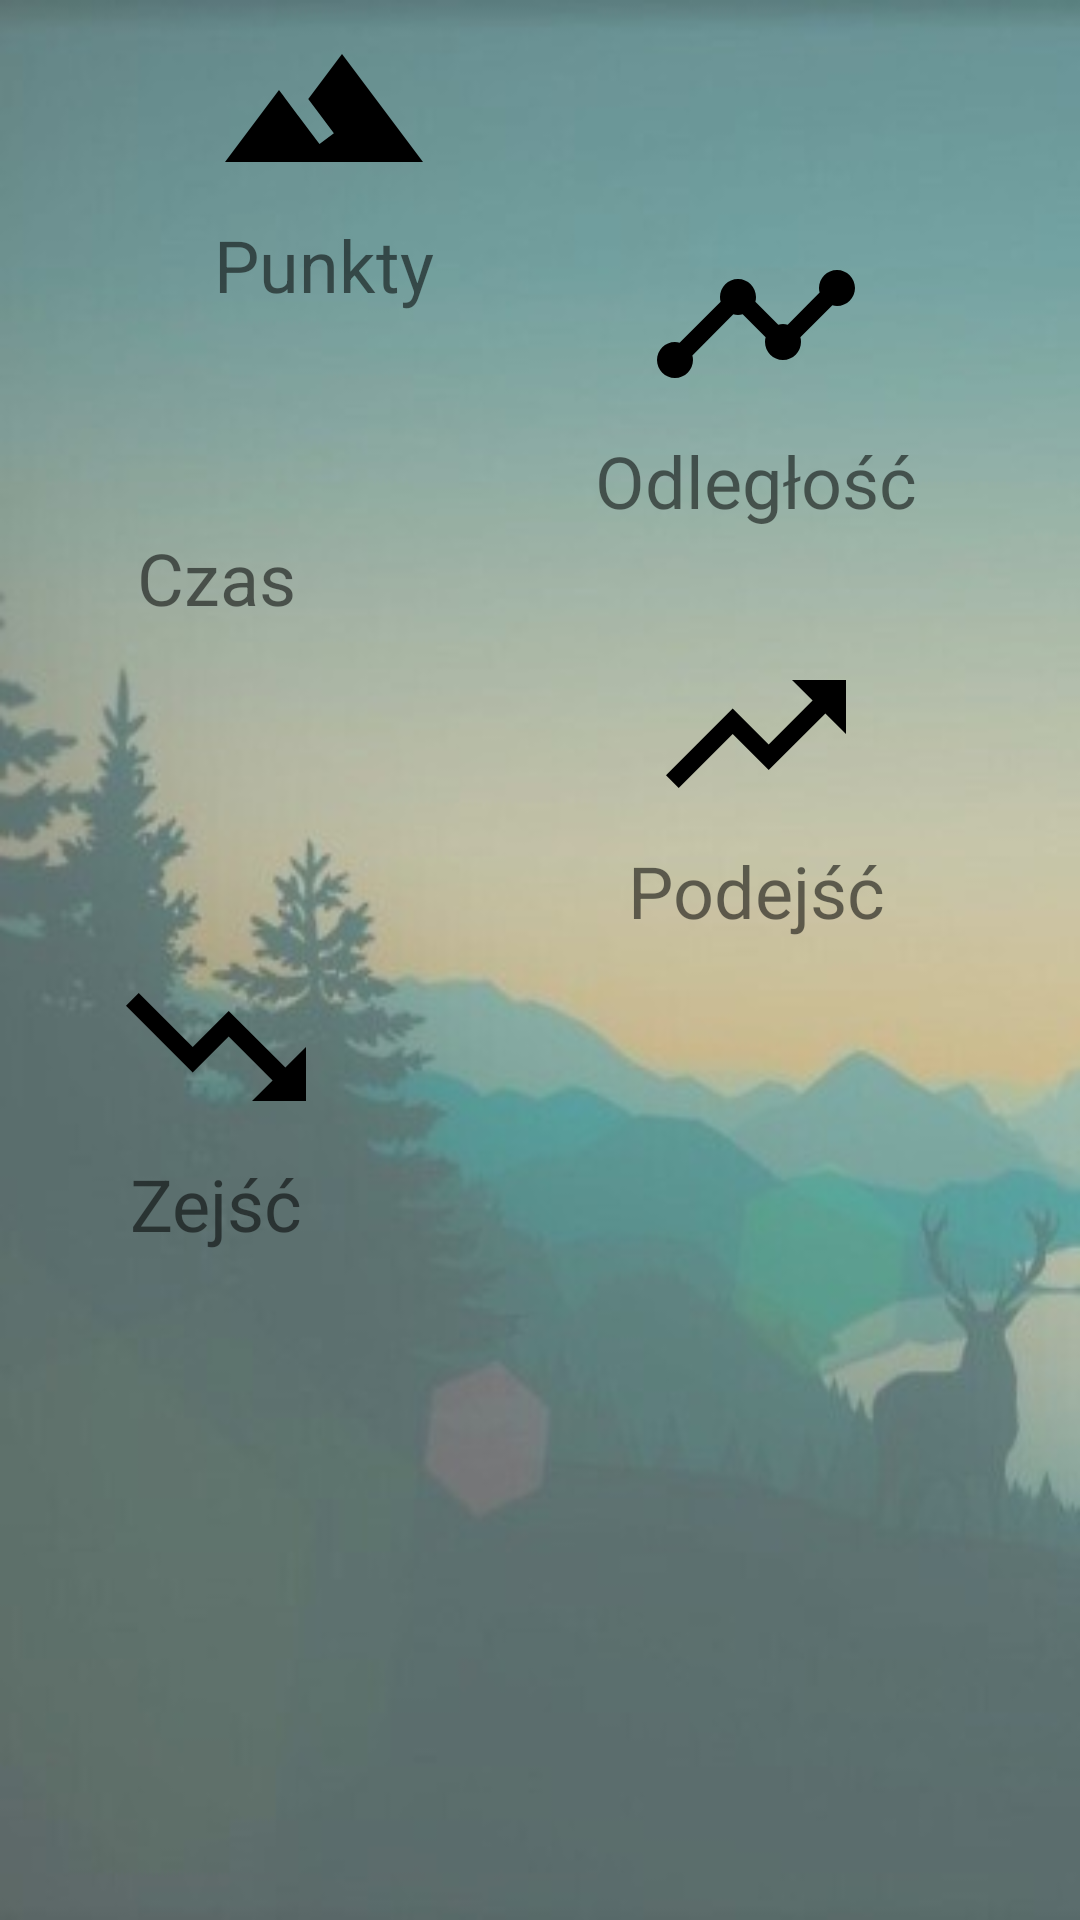

Icon click points for this 1080px×1920px phone screenshot, format point (x, y):
filter hdr: point (324, 108)
timeline: point (756, 305)
trending down: point (225, 1020)
trending up: point (756, 707)
